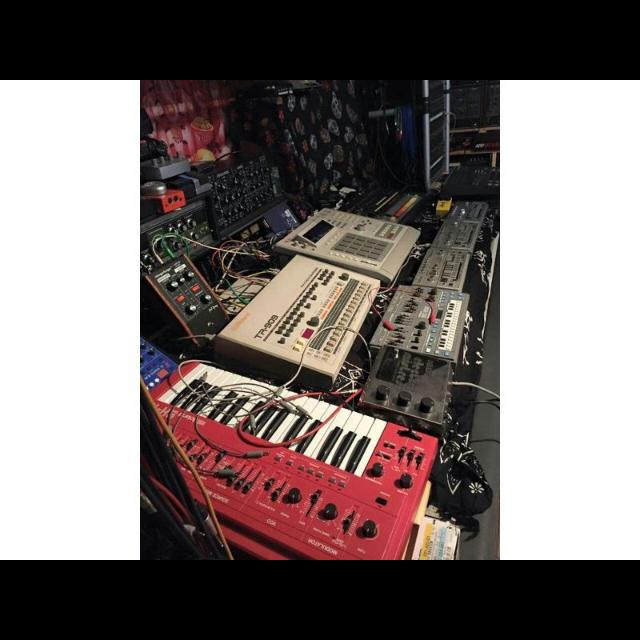Electronic-Keyboard: (150, 405, 444, 549)
